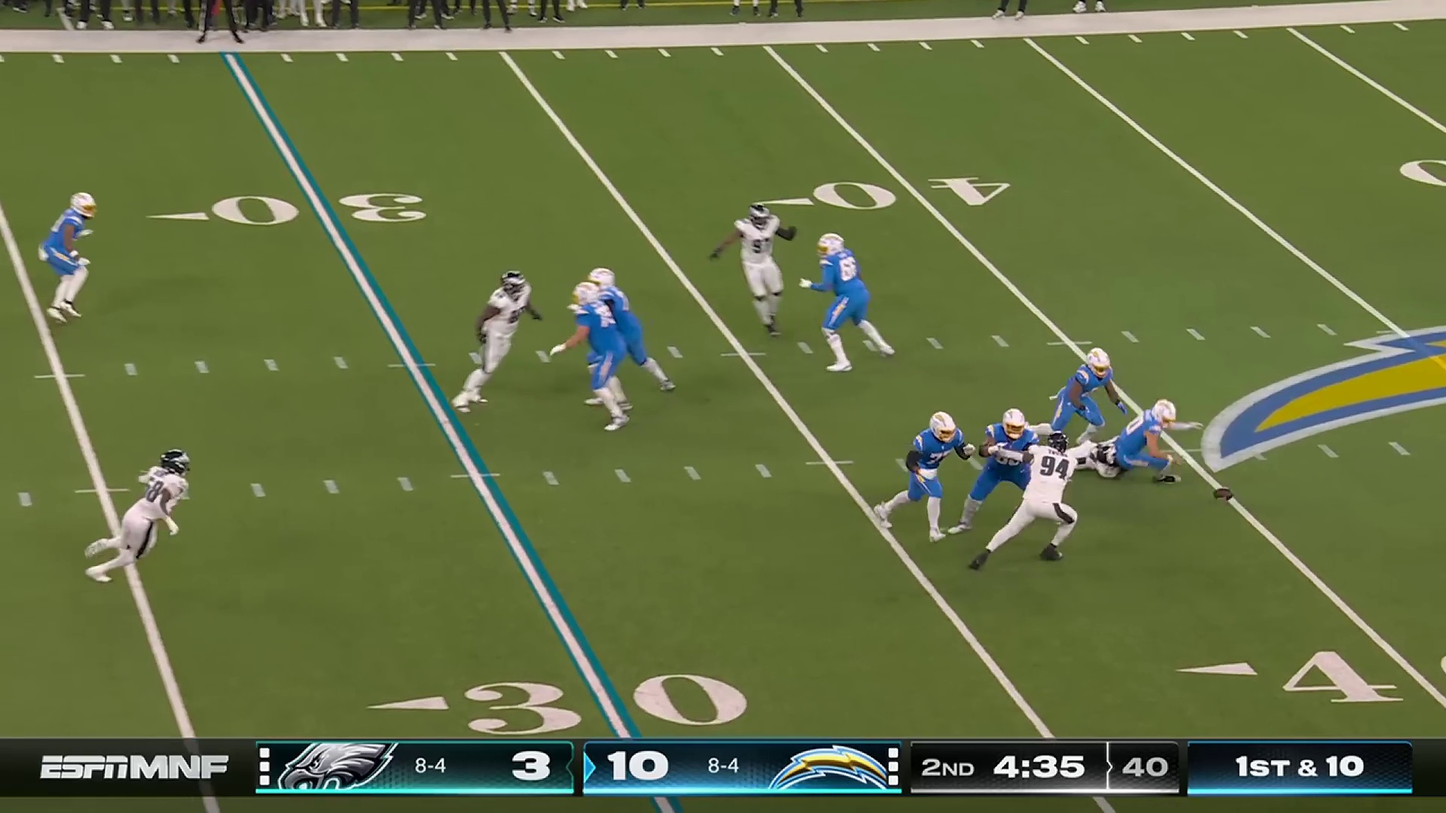ball: (1213, 487, 1235, 505)
player: (77, 446, 202, 595), (445, 276, 529, 411), (597, 265, 679, 399), (36, 189, 102, 327), (566, 287, 626, 438), (817, 237, 881, 374), (727, 201, 790, 336), (904, 413, 955, 539), (1111, 397, 1180, 487), (1041, 345, 1108, 436), (1029, 439, 1074, 562), (990, 412, 1030, 522), (1041, 440, 1120, 486)
